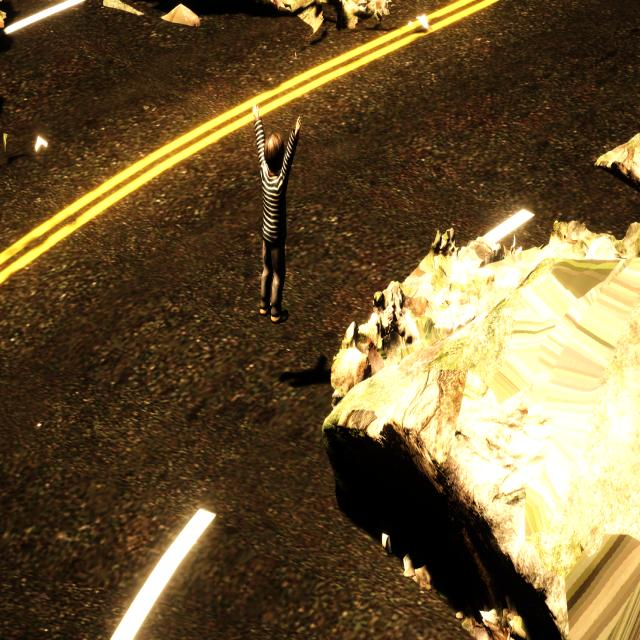Human: (249, 104, 301, 333)
